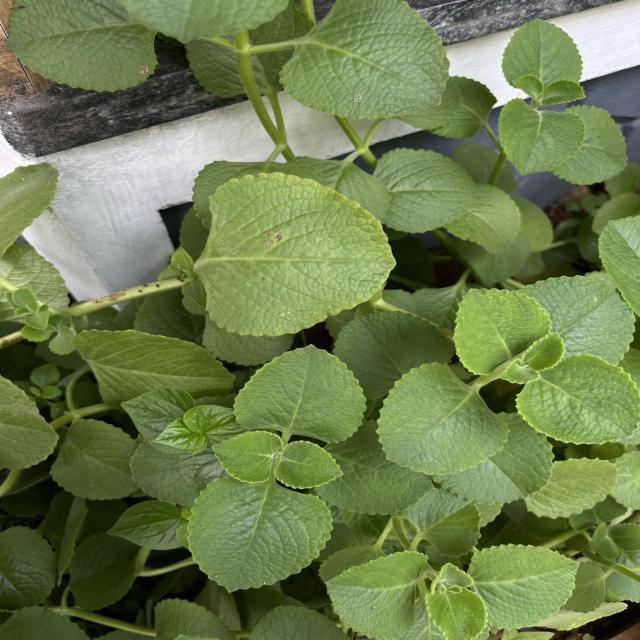Plectranthus barbatus: (196, 172, 397, 338), (277, 0, 453, 119), (186, 476, 334, 594), (375, 361, 512, 477), (3, 0, 160, 94), (232, 342, 368, 444), (513, 352, 640, 446), (430, 412, 555, 506), (332, 309, 454, 401), (322, 420, 437, 516), (467, 542, 582, 632), (322, 550, 430, 640), (451, 286, 552, 378), (374, 146, 476, 234), (49, 418, 143, 500), (496, 96, 586, 176), (550, 104, 628, 186), (524, 456, 619, 520), (500, 16, 584, 88), (446, 183, 522, 255), (405, 488, 485, 556), (0, 522, 59, 610), (212, 428, 284, 486), (274, 438, 346, 492), (542, 79, 586, 107)
